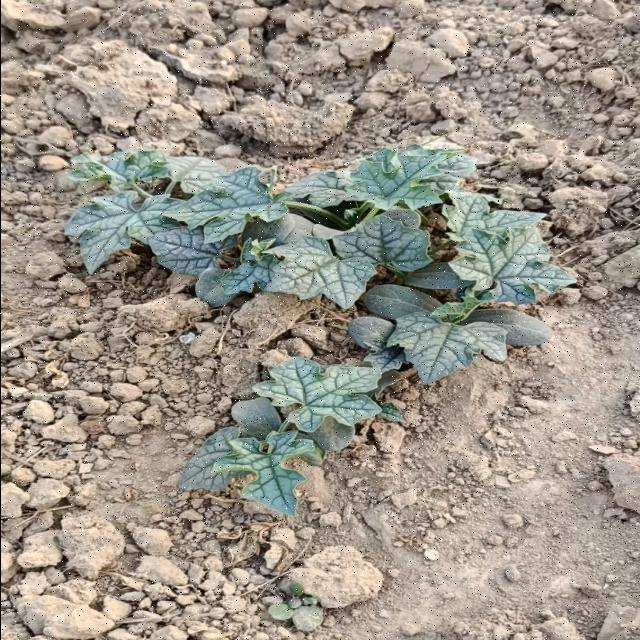plant: (65, 146, 573, 515)
